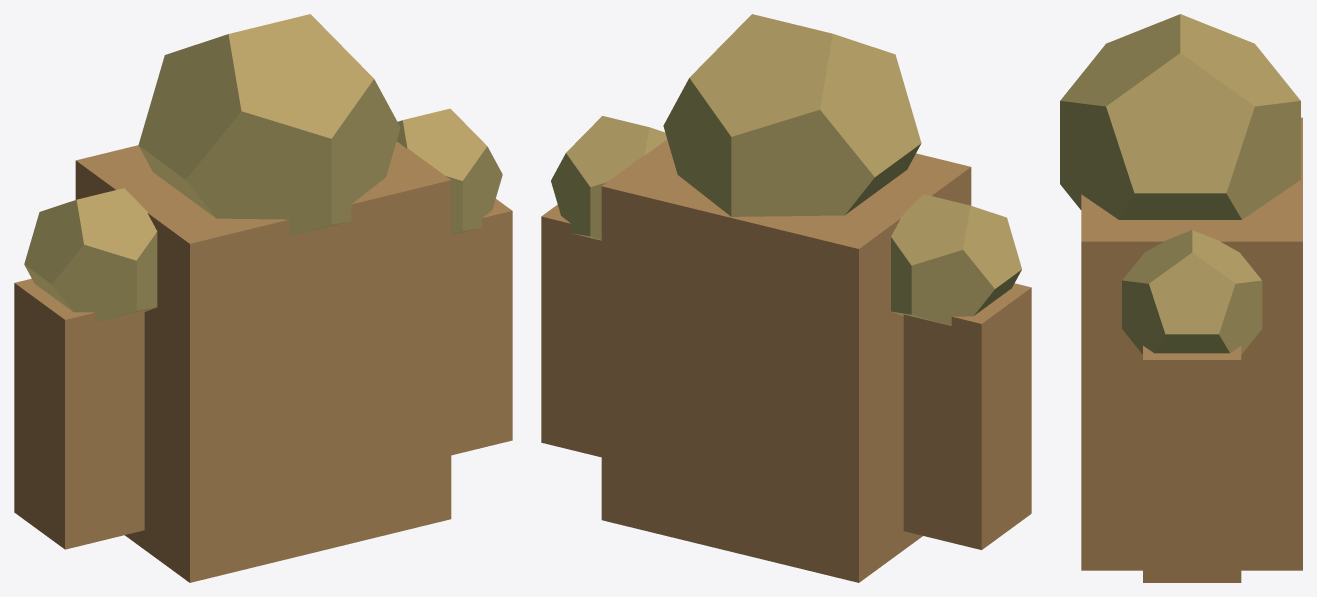
File: reinforced_mountain_spirit.glb
3 renders of one model, left to right at view 1: azimuth 30°, elevation 25°; view 2: azimuth 150°, elevation 25°; view 3: azimuth 270°, elevation 25°, orthographic. The views are drawn at different scales.
Parts seen in each view (by area): view 1: body, head, arm_l, arm_r, shoulder_r, shoulder_l; view 2: body, head, arm_l, arm_r, shoulder_r, shoulder_l; view 3: body, head, arm_r, shoulder_l.
Boxes of the visible parts, x1,y1,x2,y2 form: body: [75, 141, 451, 582]; head: [138, 14, 400, 236]; arm_l: [14, 278, 144, 549]; arm_r: [451, 199, 512, 455]; shoulder_r: [24, 188, 157, 321]; shoulder_l: [397, 108, 502, 235]; body: [601, 139, 971, 582]; head: [663, 14, 921, 216]; arm_l: [903, 283, 1031, 549]; arm_r: [541, 204, 601, 457]; shoulder_r: [891, 194, 1021, 325]; shoulder_l: [551, 116, 666, 240]; body: [1081, 117, 1302, 570]; head: [1060, 14, 1300, 219]; arm_r: [1143, 346, 1241, 582]; shoulder_l: [1122, 230, 1262, 354].
Size of the model in its own units: 2.33 by 2.42 by 1.12.
